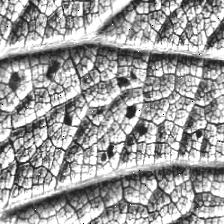Angular Leafspot: (0, 52, 224, 224)
